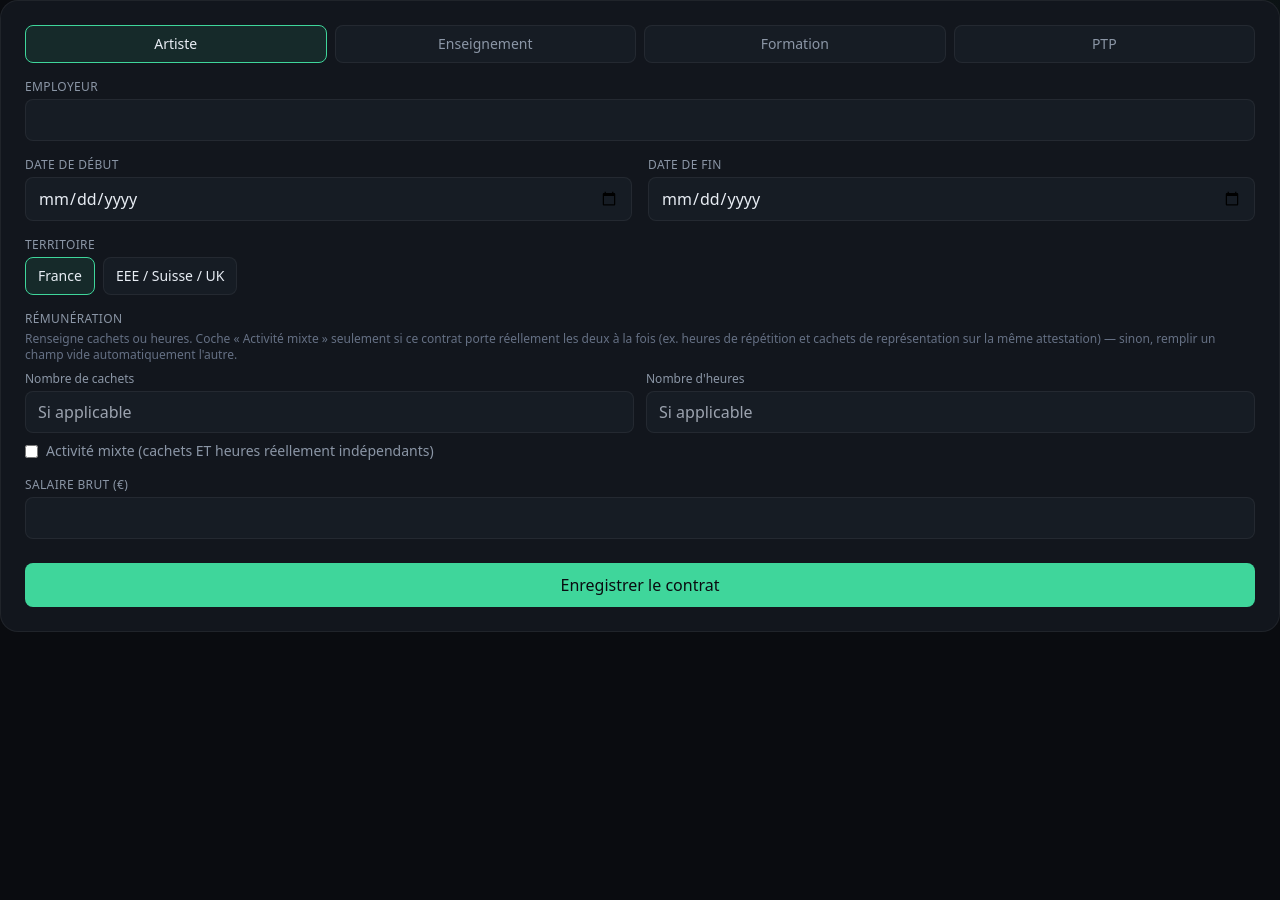
Test: ContractForm — un contrat ne peut pas couvrir deux mois civils (point 7) › un contrat du 20/02 au 10/03 : message affiché et bouton désactivé
Step 1. Type "2026-03-10" into the date field labelled "Date de fin" → {"x": 952, "y": 199}, box [648,177,1255,221]
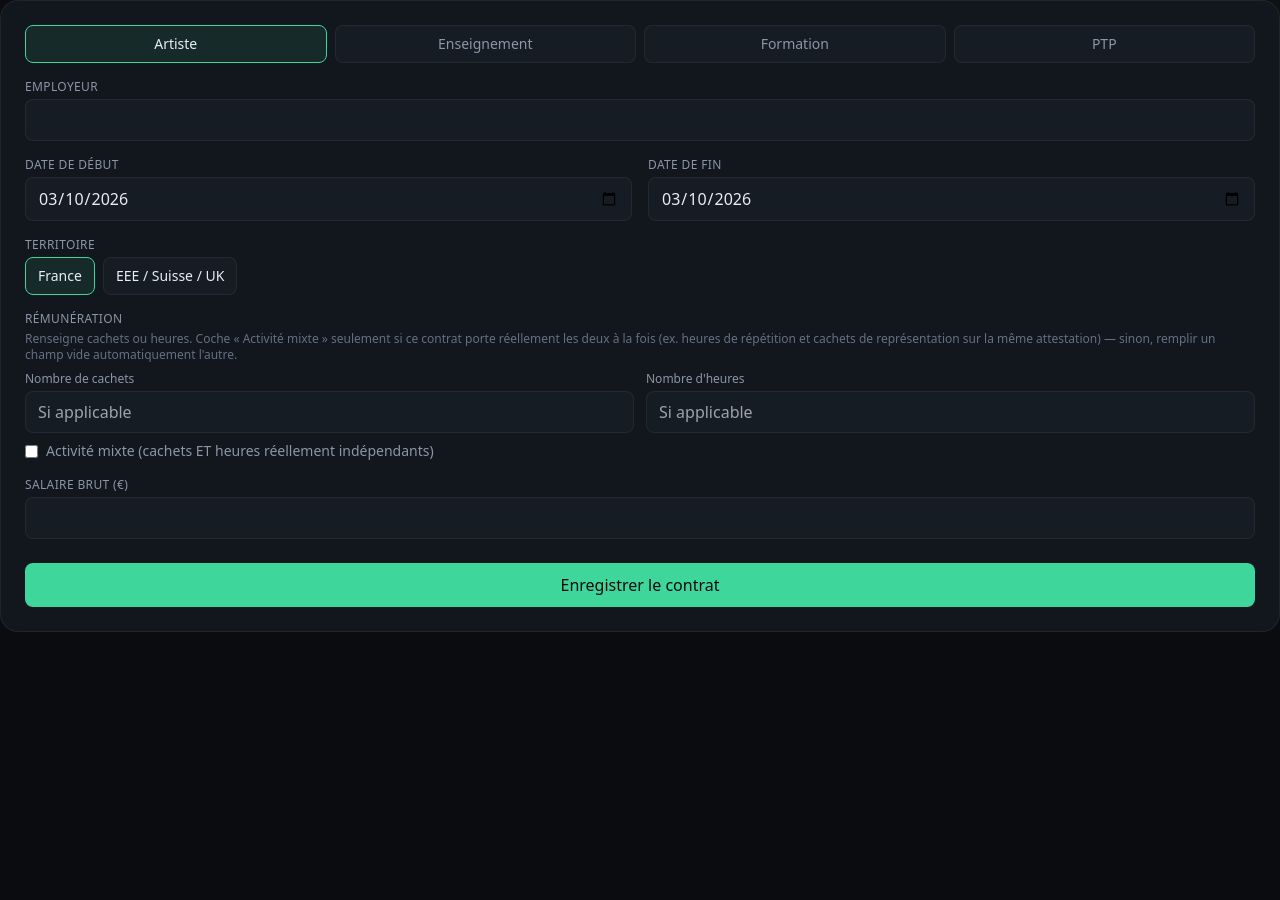
Step 2. Type "2026-02-20" into the date field labelled "Date de début" → {"x": 328, "y": 199}, box [25,177,632,221]
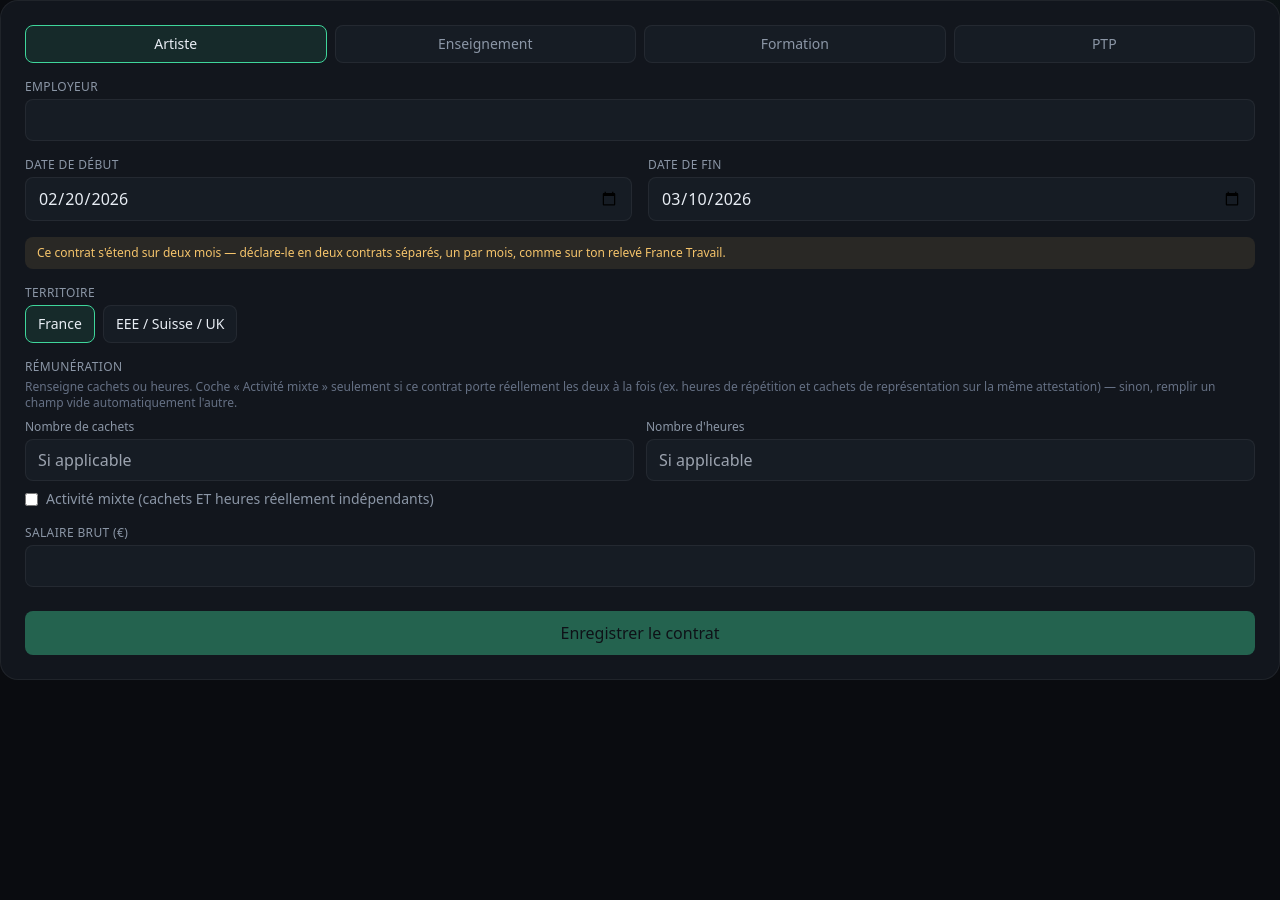
Now the text "deux contrats séparés" is shown, box [37,244,726,261]
Now the button "Enregistrer le contrat" is disabled, box [25,611,1255,655]
